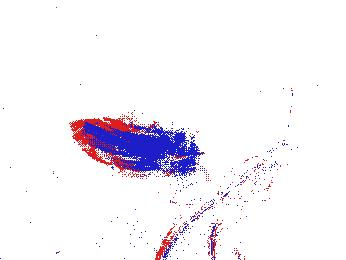X-ray fish: (83, 119, 203, 183)
glassfish: (156, 139, 292, 260)
